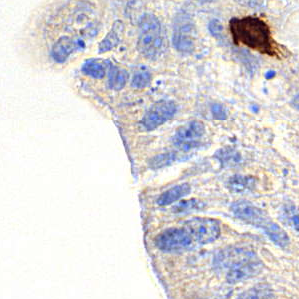Lymphocyte: (227, 15, 288, 59)
